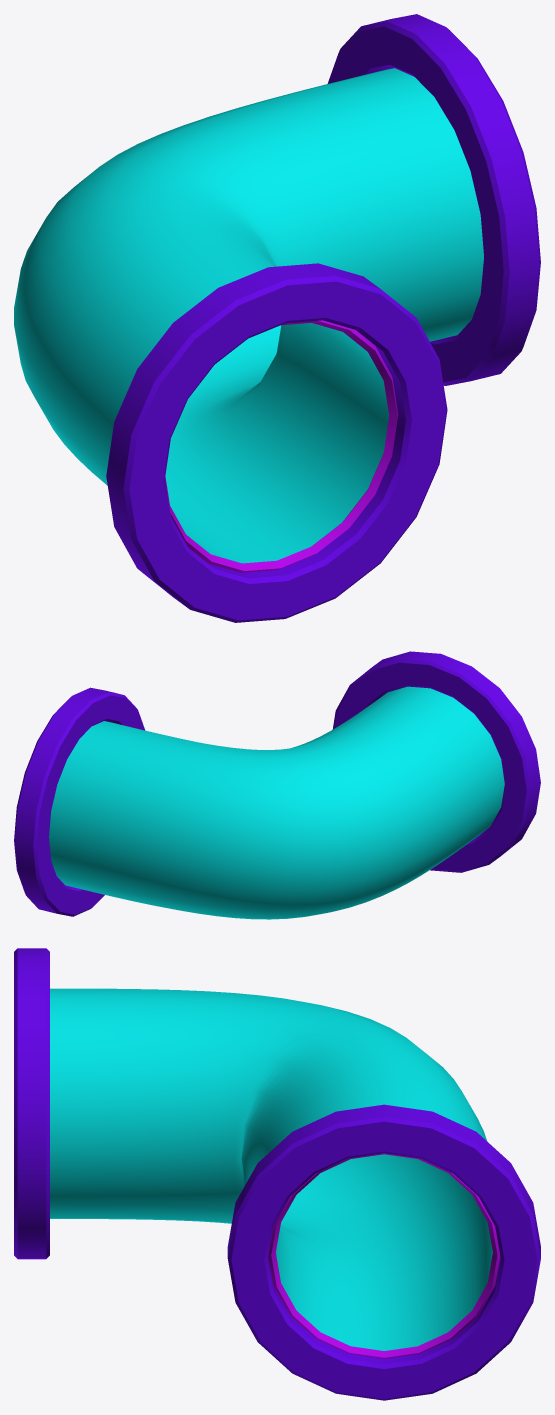
File: Small 90.fbx
3 views of the same model, one above another, from view 1: azimuth 30°, elevation 25°; view 2: azimuth 150°, elevation 25°; view 3: azimuth 270°, elevation 25° (orthographic). The views are drawn at different scales.
Parts seen in each view (by area): view 1: SmartCombine_0; view 2: SmartCombine_0; view 3: SmartCombine_0.
Boxes of the visible parts, x1,y1,x2,y2 form: SmartCombine_0: (14,14,540,622); SmartCombine_0: (14,651,540,919); SmartCombine_0: (14,948,540,1400).
Bounding box in the file's own units: 42.06 × 25 × 42.06.
